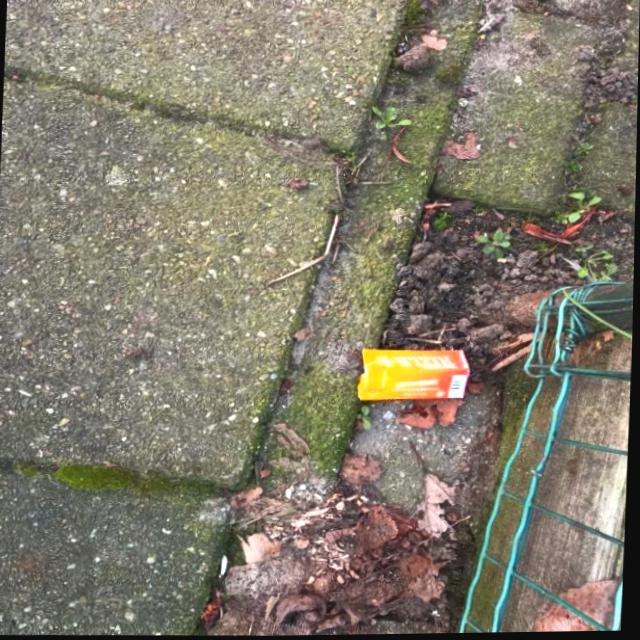Paper: (354, 346, 474, 405)
